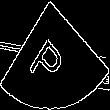P_NE: (33, 23, 77, 87)
